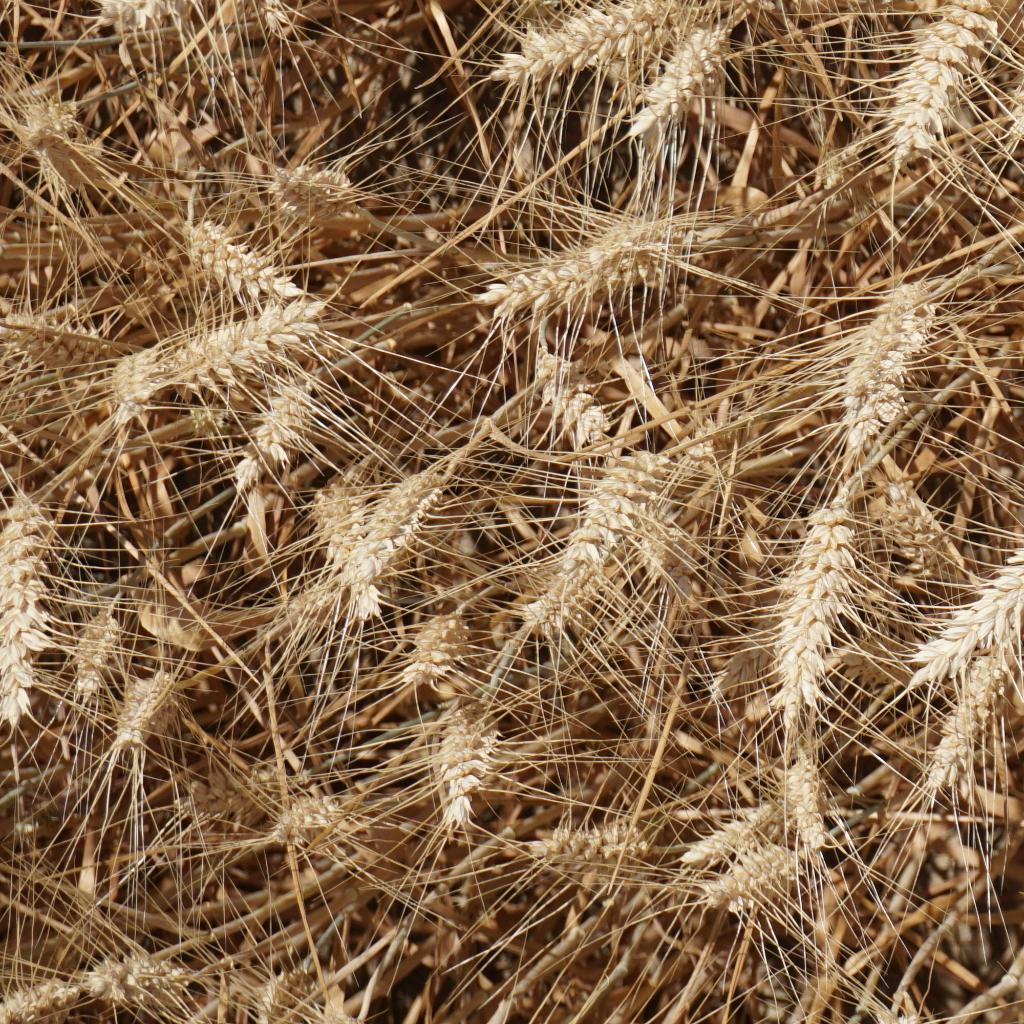0-0: (488, 206, 675, 323), (882, 0, 1000, 185), (919, 476, 1024, 665), (768, 484, 848, 728), (108, 305, 307, 403), (551, 451, 655, 626), (334, 442, 466, 565), (925, 653, 1024, 817), (840, 305, 947, 444), (167, 202, 309, 305), (206, 372, 325, 488), (0, 480, 51, 728), (622, 15, 736, 121), (504, 0, 667, 70), (876, 464, 970, 581), (519, 342, 618, 442), (7, 307, 116, 391), (525, 809, 649, 880), (770, 746, 850, 856), (74, 941, 185, 1019), (311, 488, 384, 606), (258, 149, 374, 222), (399, 596, 474, 700), (710, 848, 813, 923), (267, 777, 362, 858), (55, 598, 130, 698), (0, 951, 94, 1020), (0, 104, 86, 177), (106, 683, 183, 763), (249, 934, 317, 1024), (433, 702, 484, 819), (700, 799, 775, 868), (1000, 25, 1024, 147)
